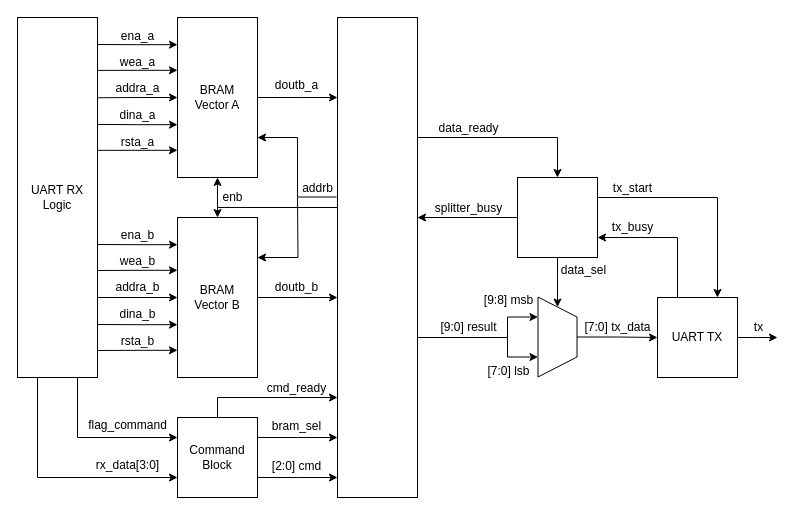
Image size: 803x515. Some labels were removed from this diagram. Each missing label, with the centre of its shape:
Processing Core: the point at 377,257
TX Splitter: the point at 557,217
